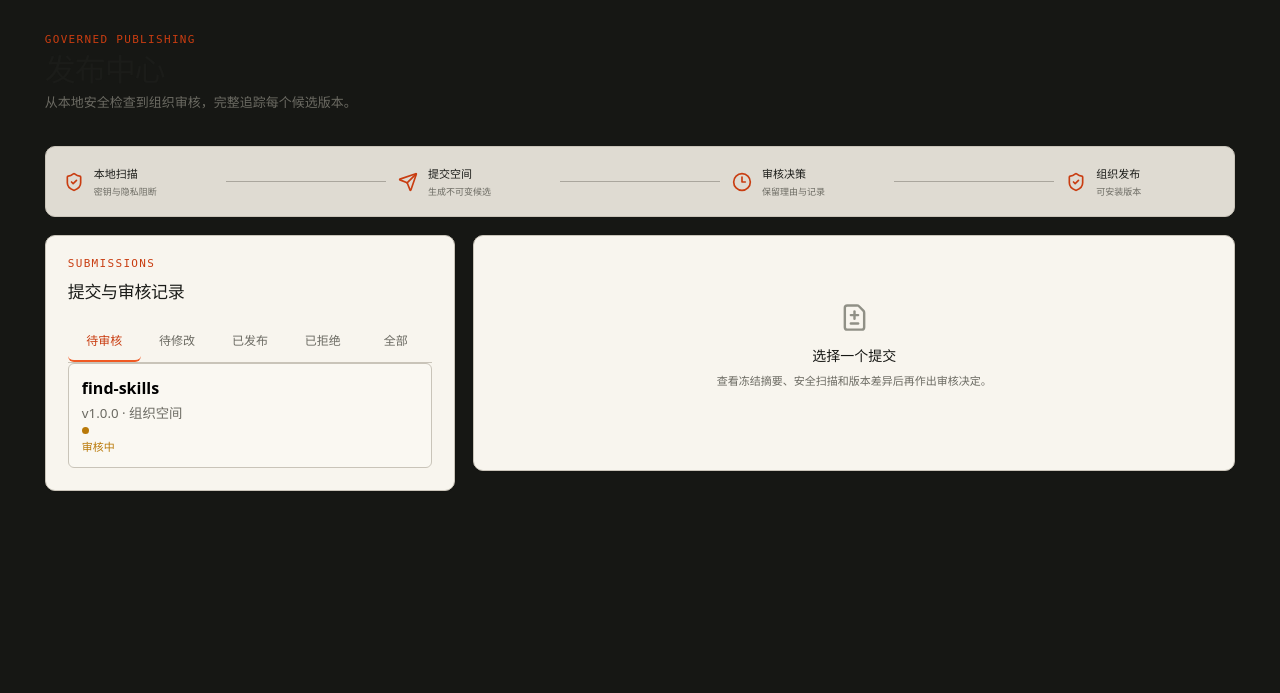
Test case: PublishingPage review actions › loads scan and version-diff evidence before enabling a review decision
Click the button "find-skills v1.0.0 · 组织空间 审核中" at [120, 388], box [68,363,432,468]
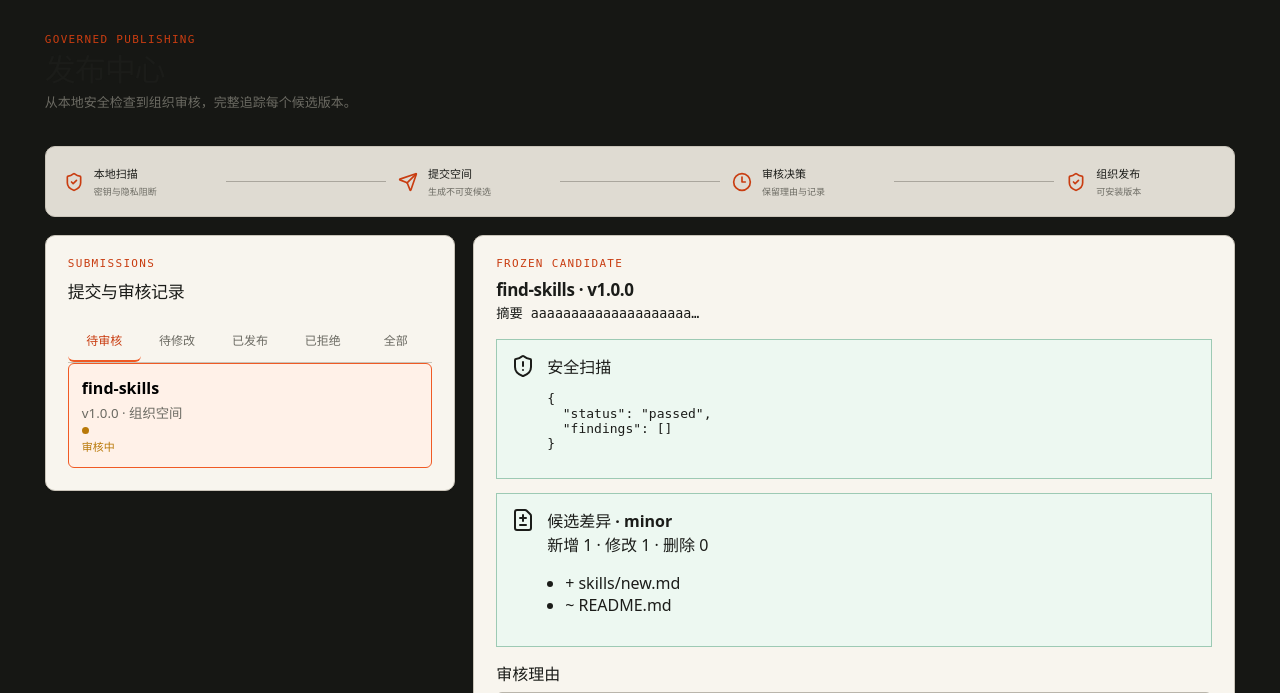
Expected: the text "安全扫描" is shown, [547,356,611,378]
Expected: the text "新增 1 · 修改 1 · 删除 0" is shown, [547,532,708,556]
Expected: the list item "+ skills/new.md" is shown, [565,572,680,594]
